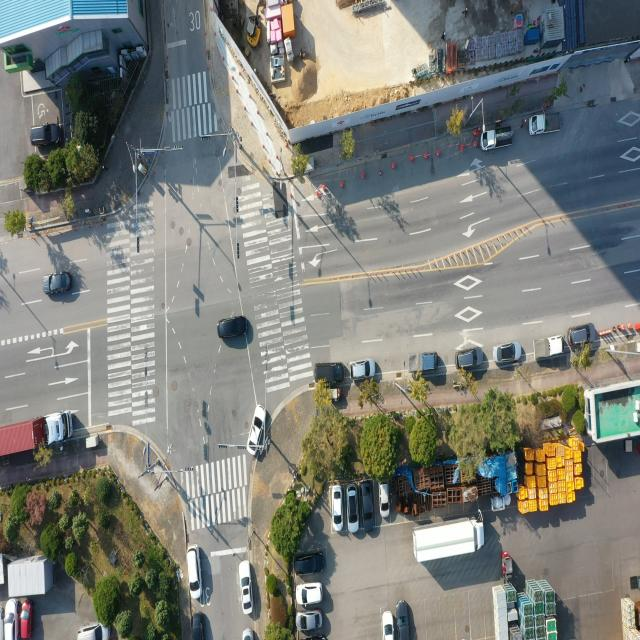car: (247, 404, 266, 454), (31, 122, 62, 148), (186, 546, 200, 602), (494, 342, 524, 367), (314, 362, 345, 386), (297, 553, 326, 578), (217, 316, 247, 340), (45, 272, 74, 296), (568, 323, 596, 347), (360, 482, 373, 532), (456, 346, 483, 370), (238, 561, 250, 613), (77, 620, 108, 640), (298, 584, 324, 607), (349, 358, 376, 380), (18, 599, 32, 640), (4, 599, 18, 640), (347, 486, 359, 532), (399, 600, 412, 640), (299, 614, 324, 633), (334, 486, 344, 533), (381, 611, 393, 640), (191, 611, 203, 640), (380, 482, 390, 516), (241, 629, 252, 640)
large_truck: (0, 411, 74, 460)
medium_truck: (410, 521, 484, 567)
small_truck: (534, 336, 568, 362), (480, 127, 512, 152), (528, 112, 561, 135), (407, 351, 439, 374)
